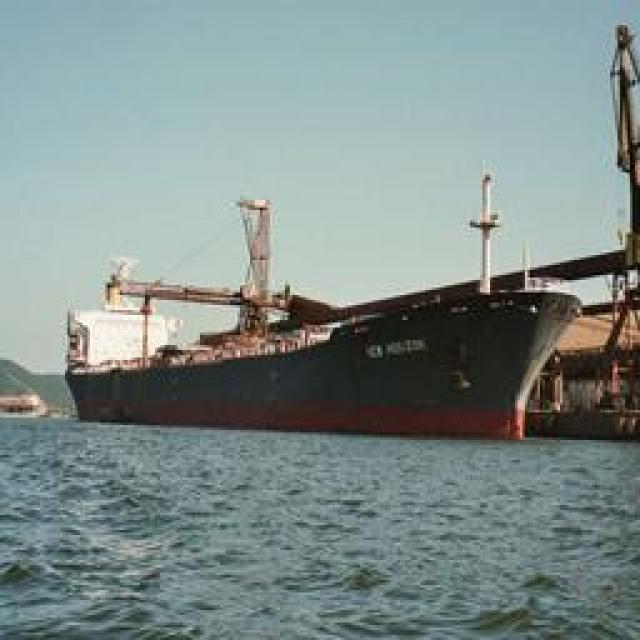ship2: (66, 165, 584, 446)
